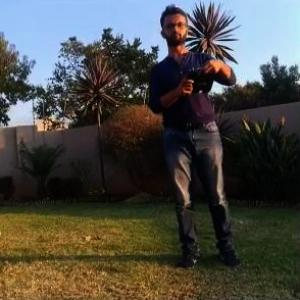follow: (144, 0, 246, 272)
